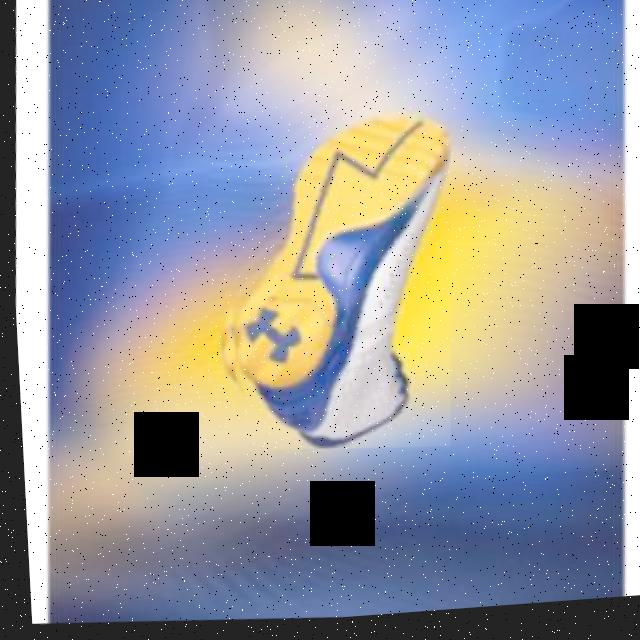shoe: (202, 106, 463, 467)
